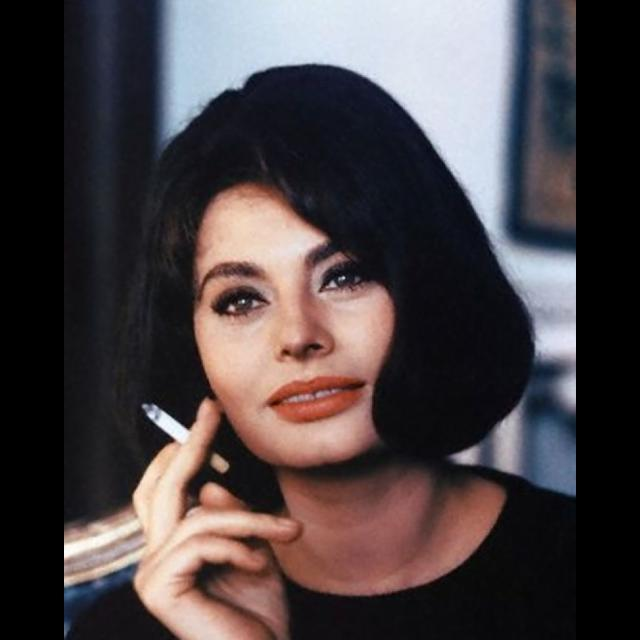rokok: (138, 392, 235, 476)
